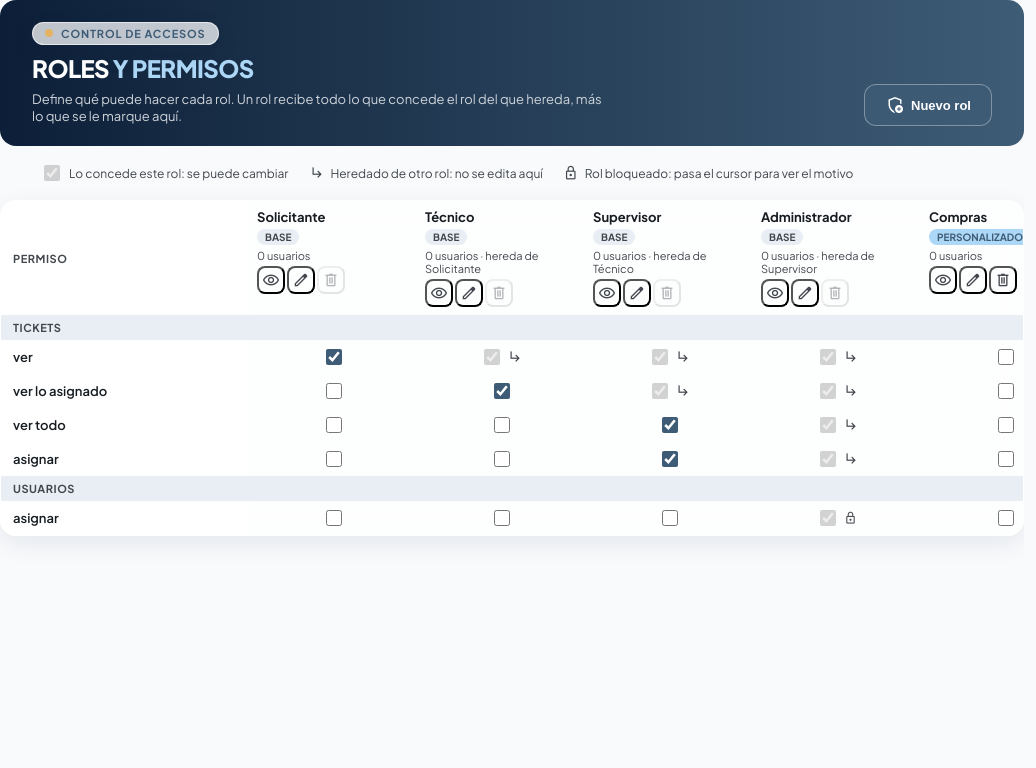
Test: RolesComponent (matrix of permissions by role) › ticking a permission is a pending change, applied to the roles below it, and only saved on request
Click the checkbox named "Tickets · ver para Compras": (1006, 357) top-left (998, 349), bottom-right (1014, 365)
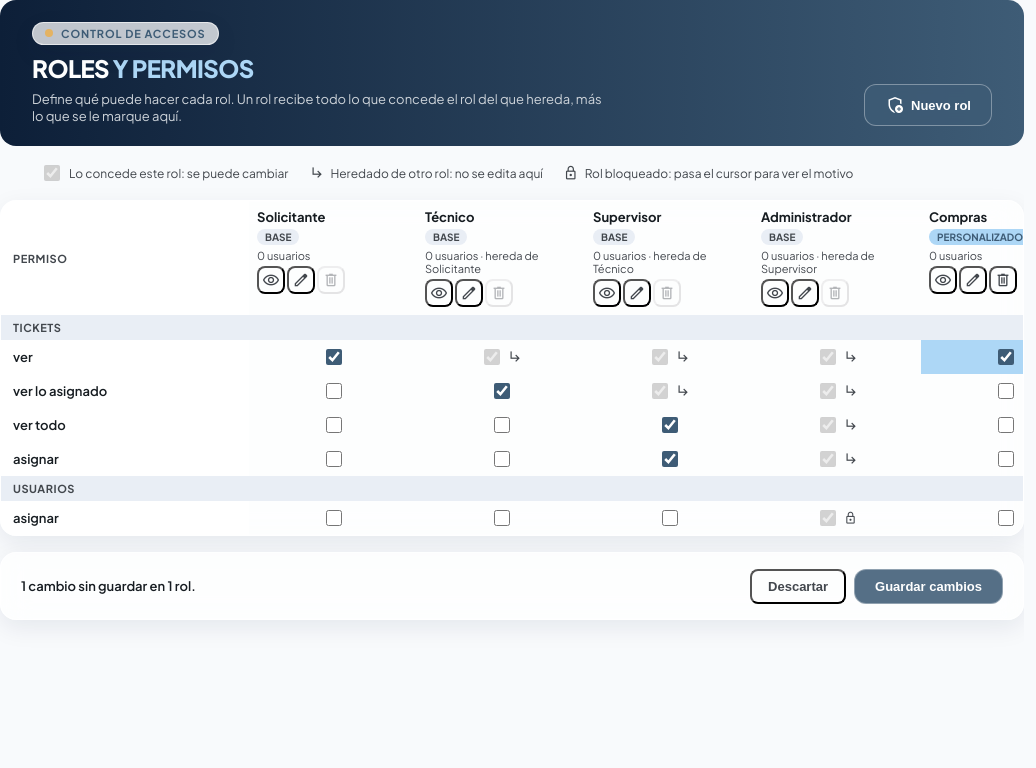
Expected: the text "1 cambio sin guardar en 1 rol." is shown, top-left (21, 578), bottom-right (196, 594)
